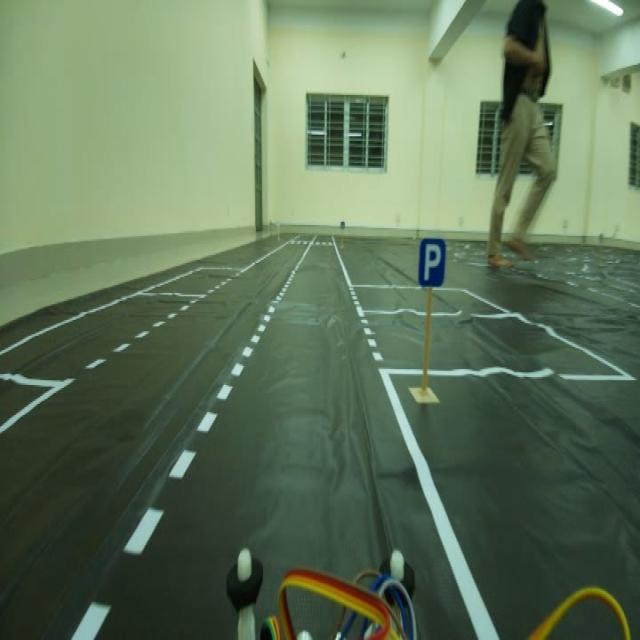parking: (415, 230, 451, 296)
